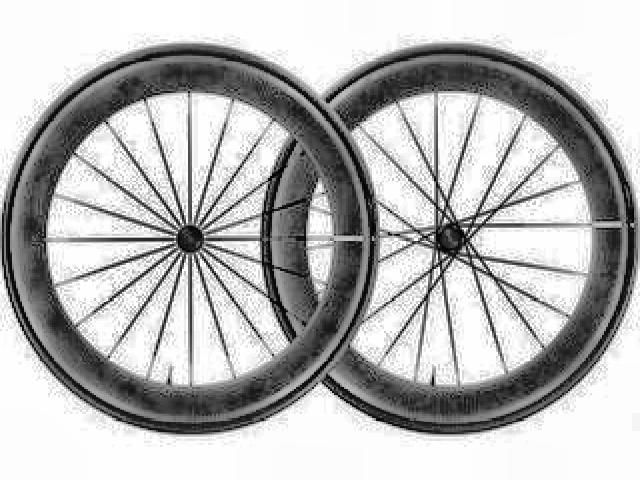wheel: (256, 40, 639, 439), (4, 41, 381, 440)
